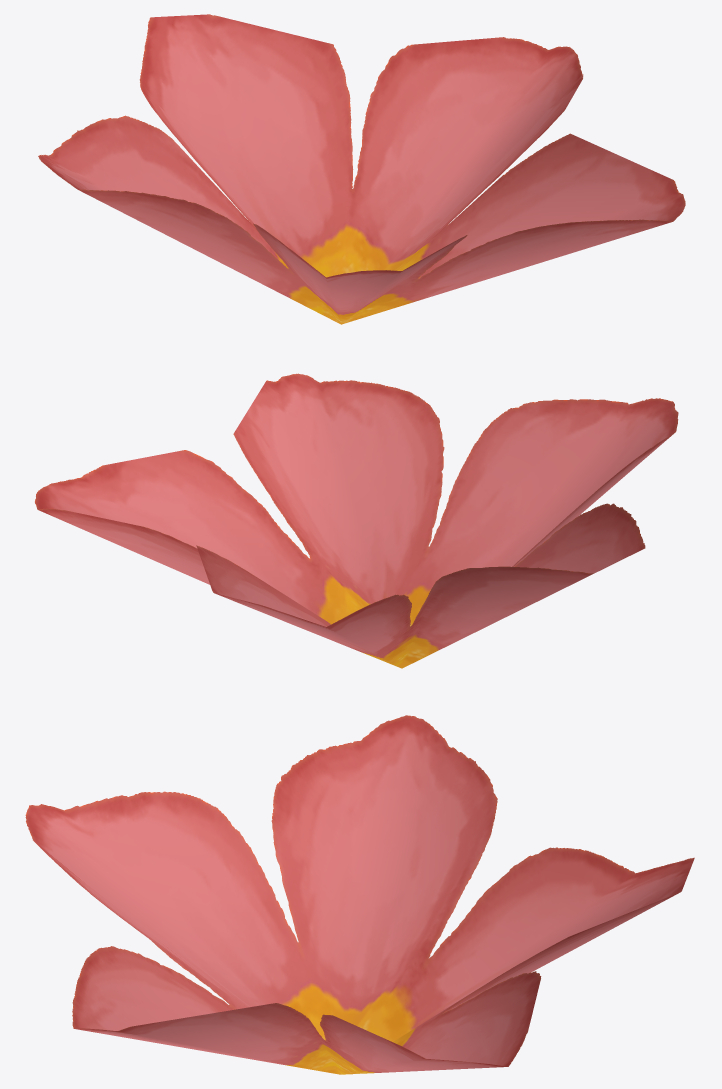
Rendered from Petal_5.glb.
The picture shows the model from 3 angles, top to bottom: view 1: azimuth 30°, elevation 25°; view 2: azimuth 150°, elevation 25°; view 3: azimuth 270°, elevation 25°; orthographic projection. The views are drawn at different scales.
Parts seen in each view (by area): view 1: Petal_5; view 2: Petal_5; view 3: Petal_5.
Part boxes in pixels (x1,y1,x2,y2): Petal_5: [38, 14, 685, 324]; Petal_5: [35, 373, 678, 668]; Petal_5: [25, 715, 694, 1074].
Bounding box in the file's own units: 0.834 × 0.2888 × 0.7952.
1 material, 1 textured.
